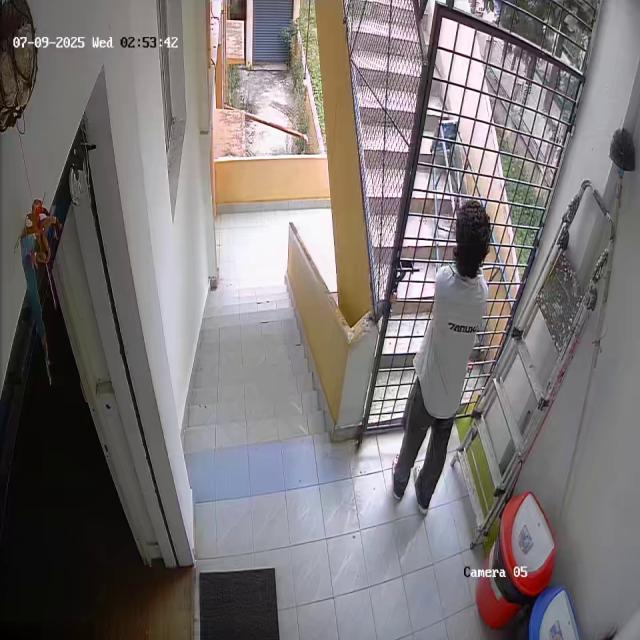person: (385, 197, 497, 519)
